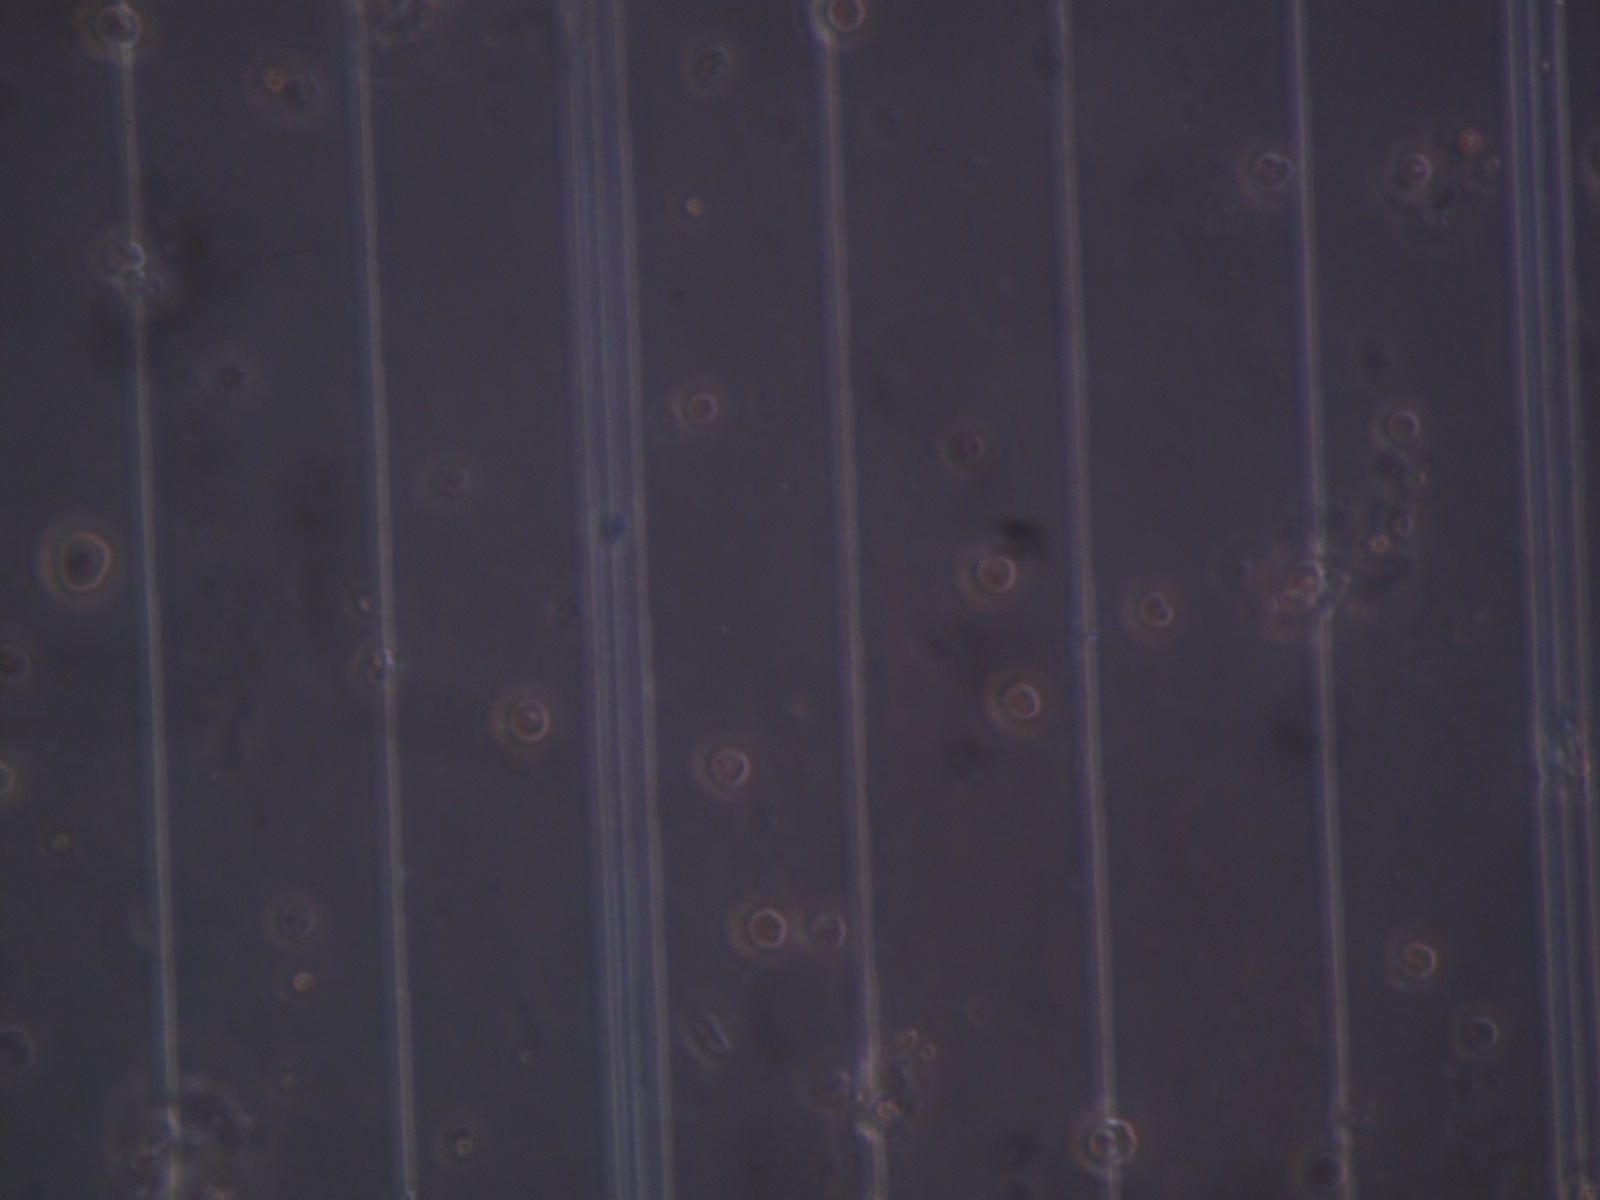hemo: (37, 513, 127, 609), (1260, 546, 1320, 643), (74, 1, 160, 69), (488, 679, 556, 763), (1068, 1100, 1139, 1176), (729, 894, 803, 966), (952, 542, 1023, 613), (981, 661, 1044, 739), (687, 734, 751, 804), (1117, 579, 1180, 650), (1237, 137, 1295, 209), (261, 886, 324, 950), (418, 445, 483, 508), (1366, 396, 1427, 458), (665, 376, 724, 440), (1293, 1142, 1356, 1200), (89, 224, 152, 282), (1383, 929, 1439, 995), (808, 1, 874, 55), (791, 903, 853, 961), (936, 424, 995, 482), (683, 33, 734, 95), (1385, 137, 1432, 203), (1456, 1008, 1506, 1063)
